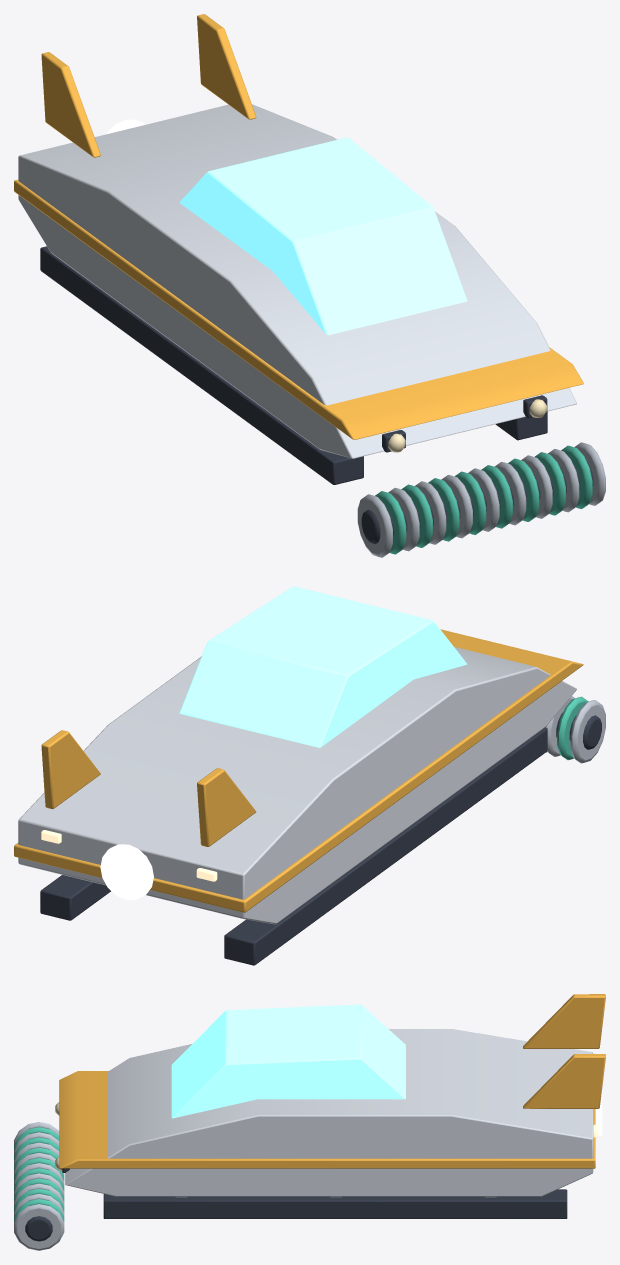
Rendered from magnetgleiter.fbx.
The picture shows the model from 3 angles, top to bottom: view 1: azimuth 30°, elevation 25°; view 2: azimuth 150°, elevation 25°; view 3: azimuth 270°, elevation 25°; orthographic projection. The views are drawn at different scales.
Visible parts, largest first — view 1: magnetgleiter_Koerper, magnetgleiter_Werkzeug; view 2: magnetgleiter_Koerper, magnetgleiter_Werkzeug; view 3: magnetgleiter_Koerper, magnetgleiter_Werkzeug.
Boxes of the visible parts, x1=… form: magnetgleiter_Koerper: x1=14, y1=14, x2=583, y2=484; magnetgleiter_Werkzeug: x1=357, y1=442, x2=605, y2=557; magnetgleiter_Koerper: x1=14, y1=586, x2=583, y2=965; magnetgleiter_Werkzeug: x1=545, y1=696, x2=605, y2=763; magnetgleiter_Koerper: x1=55, y1=994, x2=605, y2=1218; magnetgleiter_Werkzeug: x1=14, y1=1122, x2=64, y2=1250.
Bounding box in the file's own units: 1.64 × 1.58 × 4.59.
